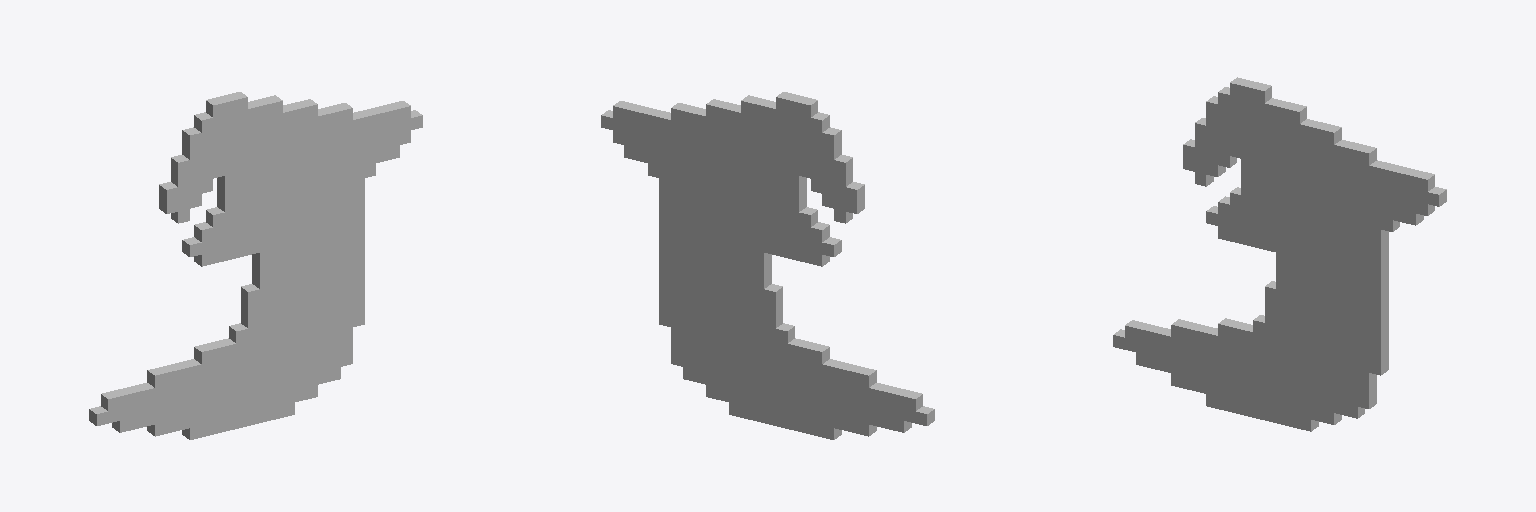
File: Protagonist.obj
3 views of the same model, side by side, from view 1: azimuth 30°, elevation 25°; view 2: azimuth 150°, elevation 25°; view 3: azimuth 330°, elevation 25° (orthographic).
Visible parts, largest first — view 1: [number redacted]; view 2: [number redacted]; view 3: [number redacted].
Boxes of the visible parts, x1,y1,x2,y2 form: [number redacted]: [89, 92, 422, 439]; [number redacted]: [601, 92, 934, 439]; [number redacted]: [1113, 77, 1446, 431].
Size of the model in its own units: 0.875 by 0.8438 by 0.0351.